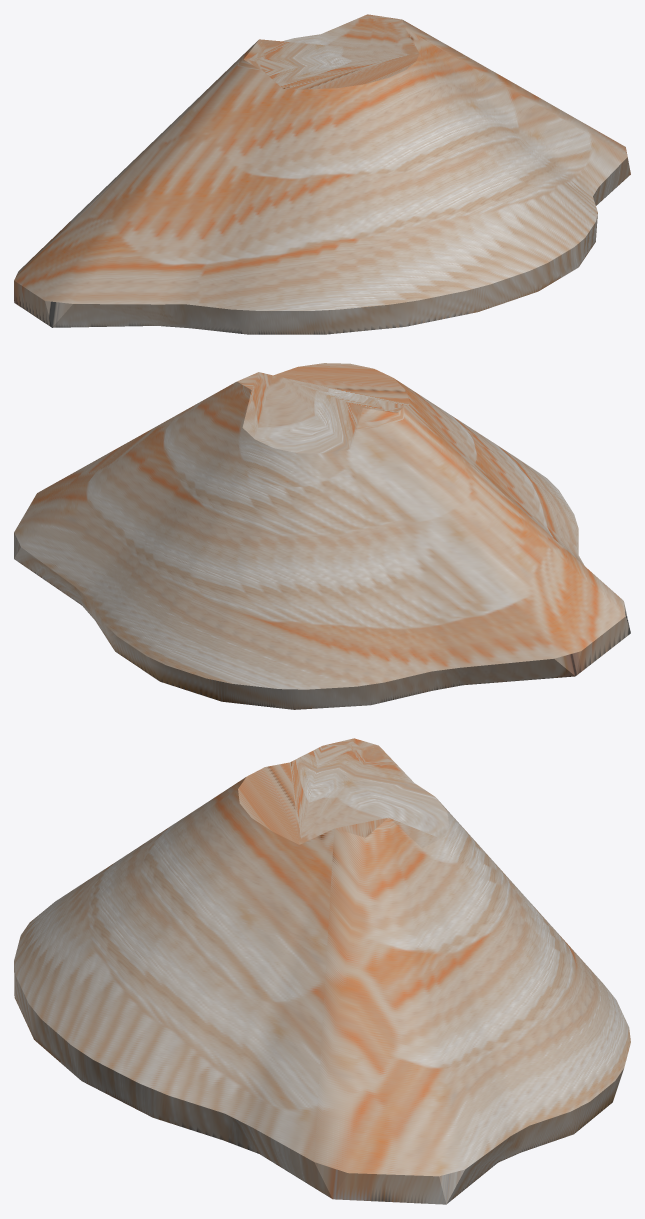
File: roof7.fbx
3 renders of one model, top to bottom at view 1: azimuth 30°, elevation 25°; view 2: azimuth 150°, elevation 25°; view 3: azimuth 270°, elevation 25°, orthographic. The views are drawn at different scales.
Visible parts, largest first — view 1: pCone3; view 2: pCone3; view 3: pCone3.
Boxes of the visible parts, x1,y1,x2,y2 form: pCone3: (14, 14, 630, 334); pCone3: (14, 363, 630, 709); pCone3: (14, 738, 630, 1204).
Size of the model in its own units: 9041 by 3515 by 6749.
1 material, 1 textured.
